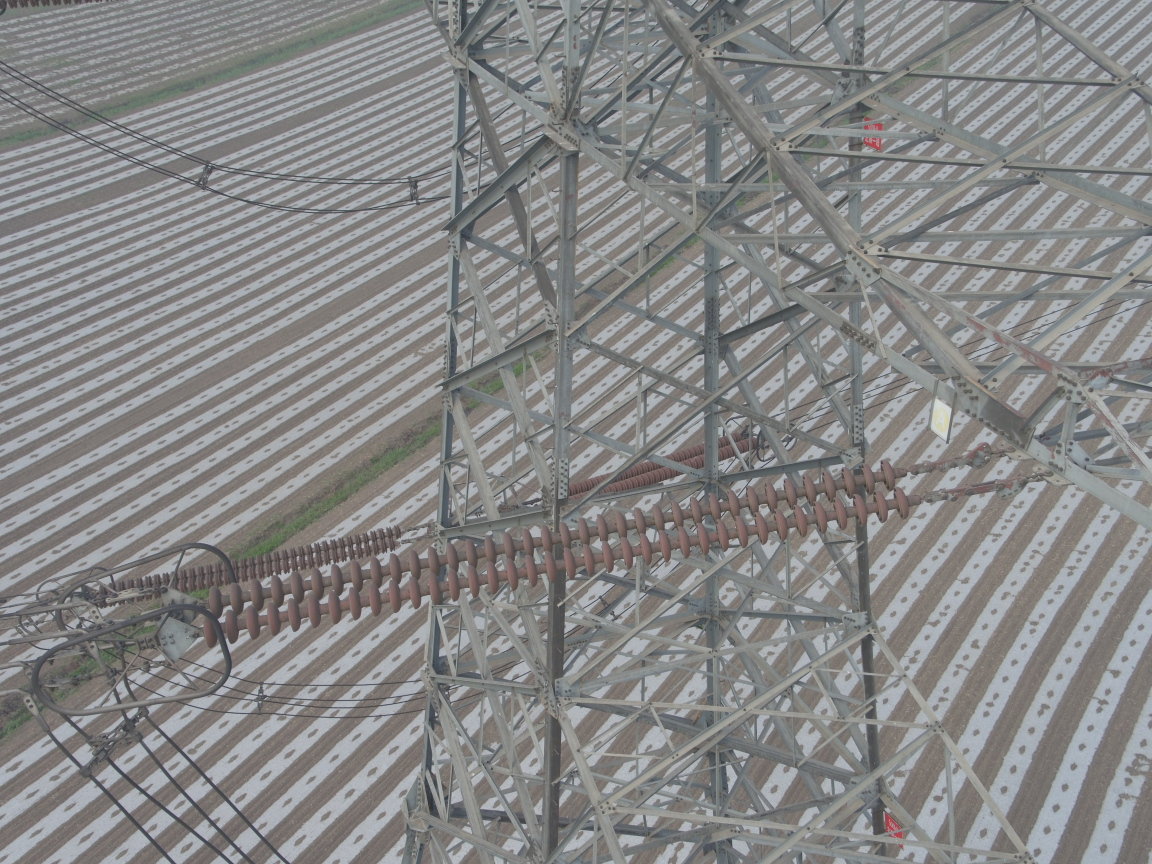insulator: (187, 457, 942, 649), (97, 518, 416, 608)
